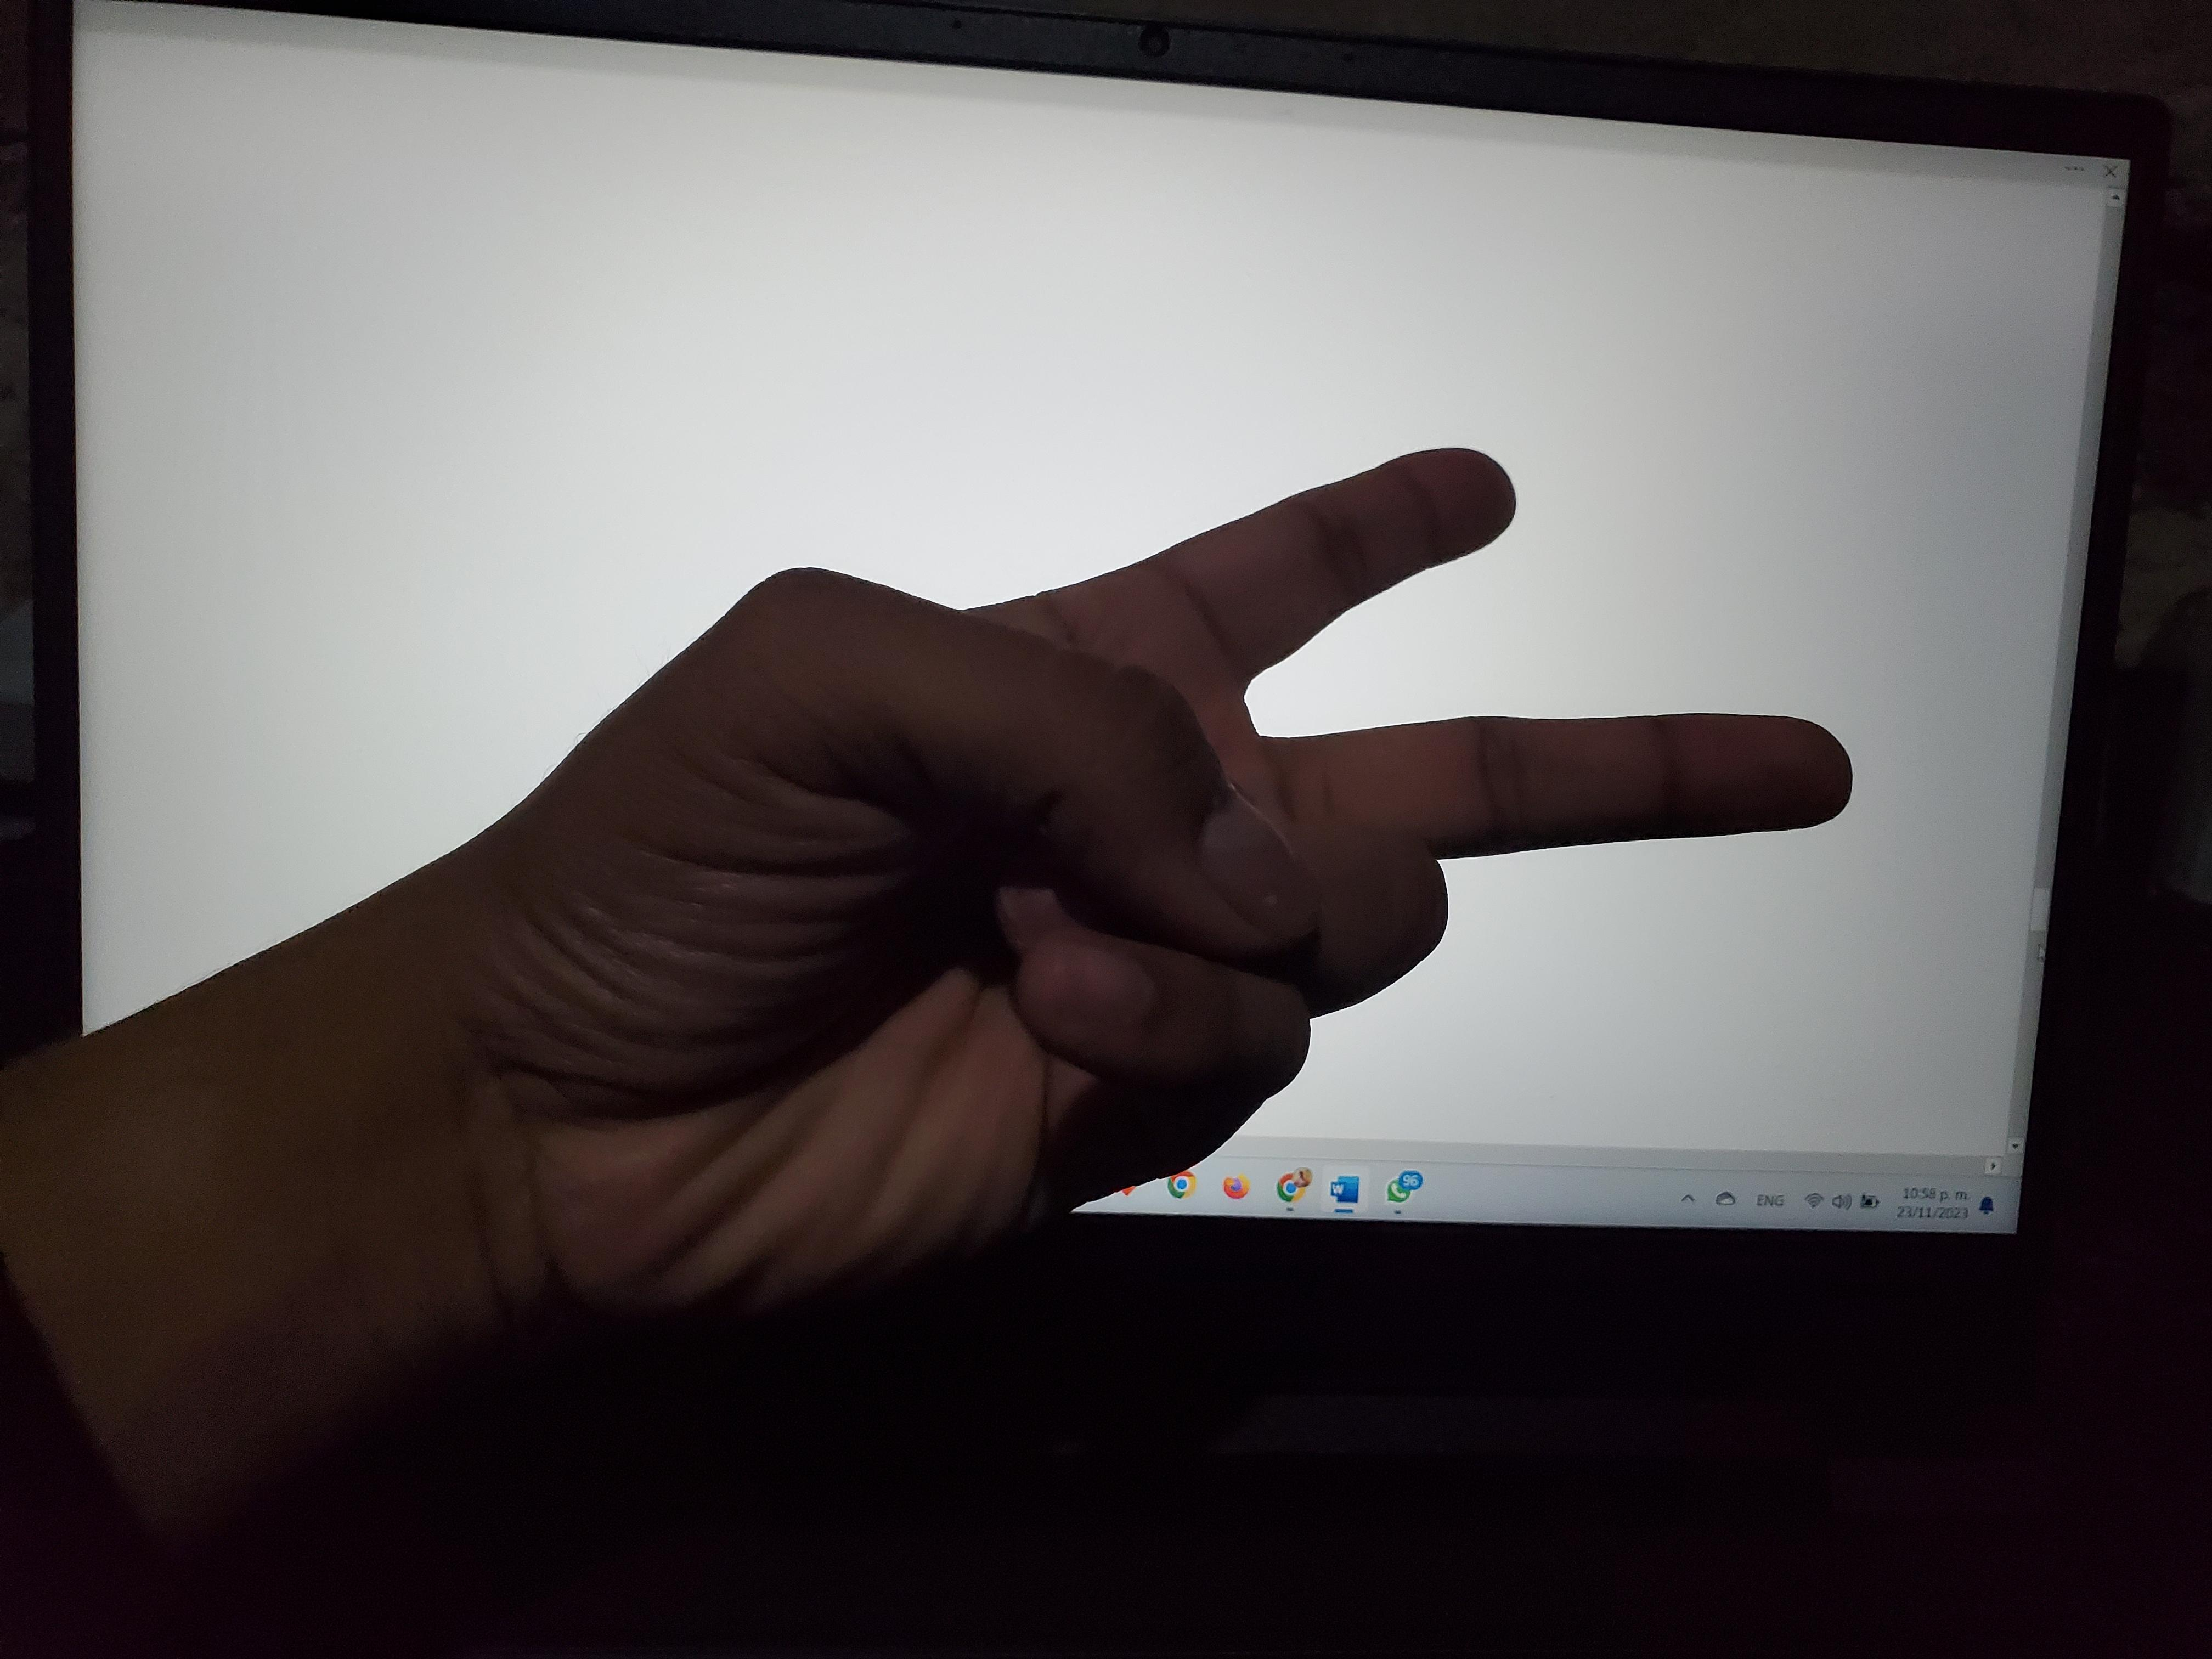Scissor: (188, 264, 1897, 1465)
